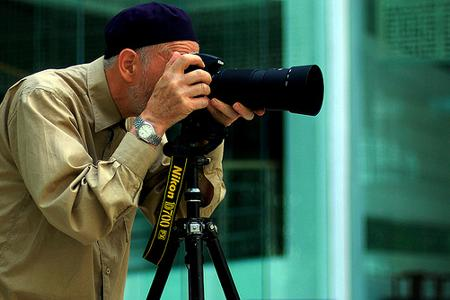person: (1, 4, 268, 300)
